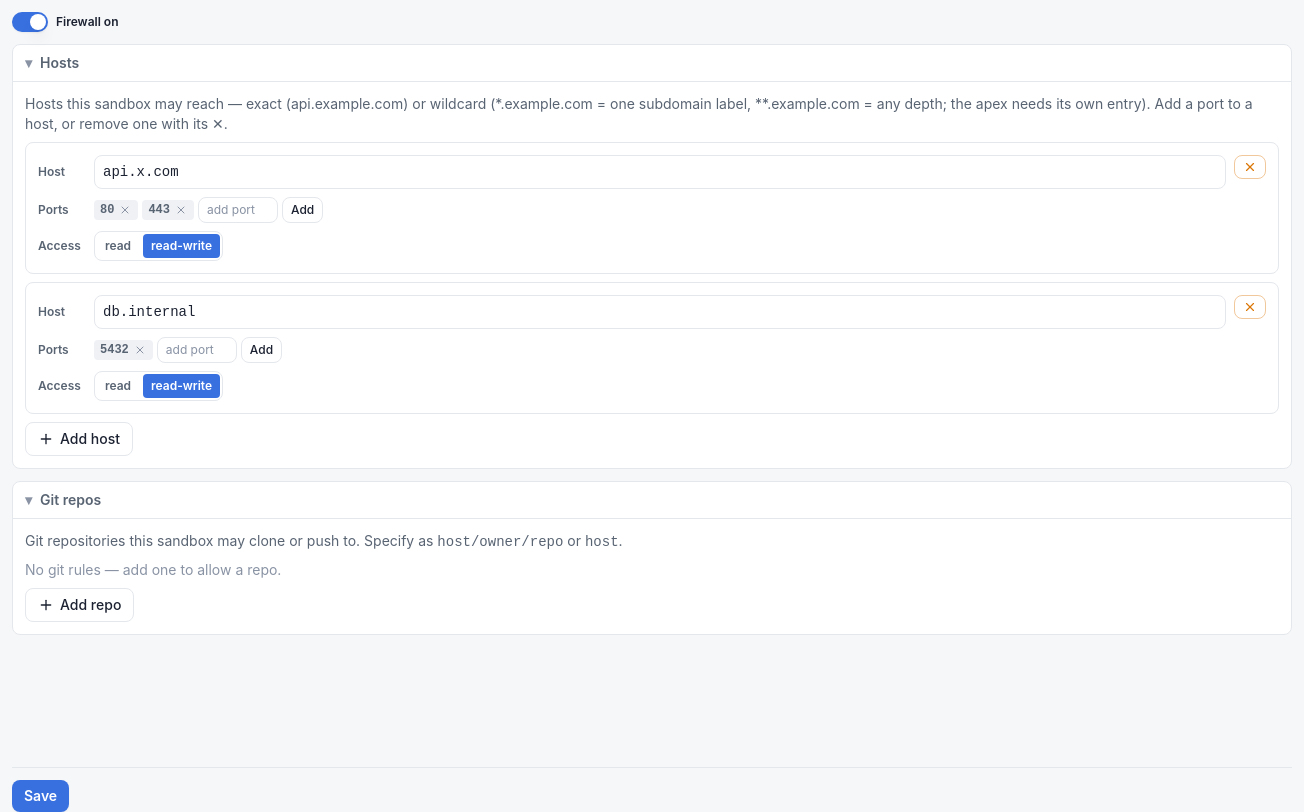
Test: PolicyEditor › rejects an out-of-range port
Expected: the 1st field showing "api.x.com" is shown, left=94, top=155, right=1226, bottom=189
Type "70000" into the field named "Add port to host rule 1 (api.x.com)".
click(238, 210); type("70000")  # box left=198, top=197, right=278, bottom=223
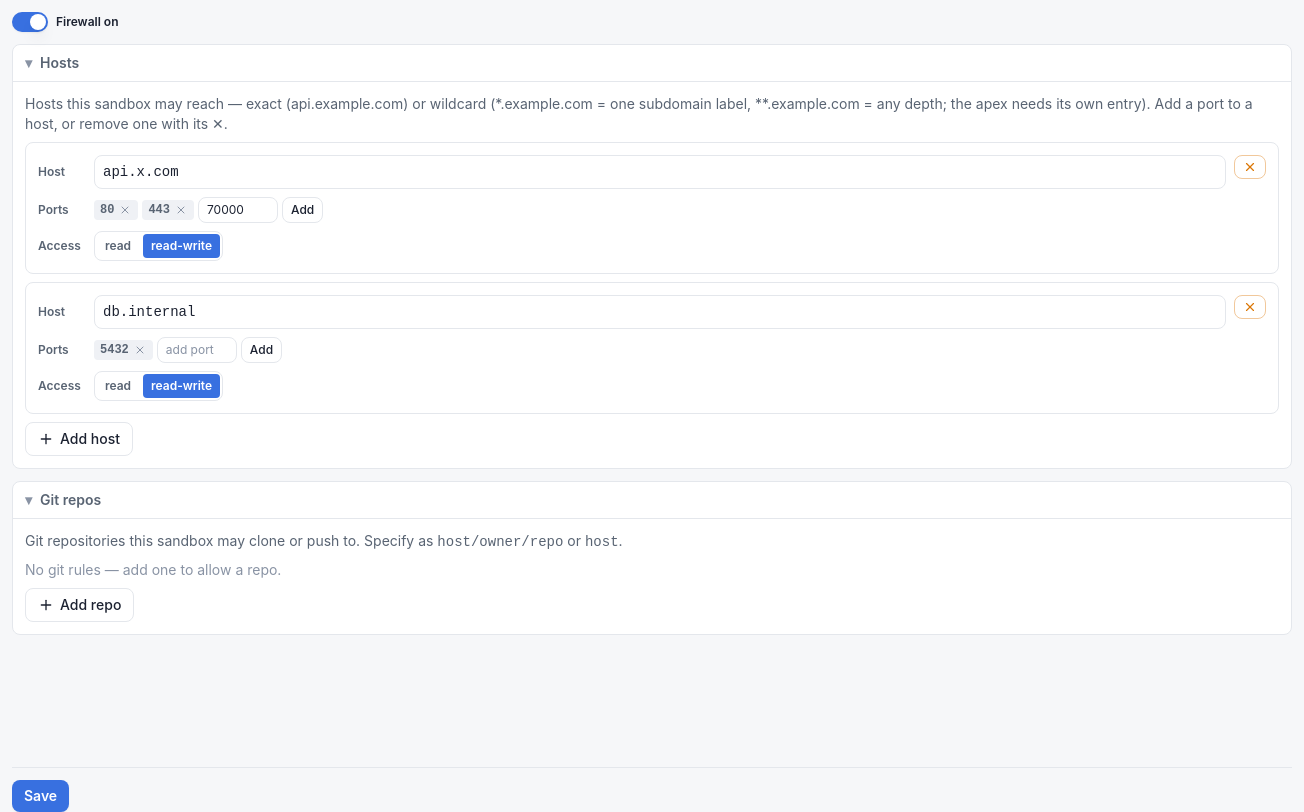
Click the button with aria-label "Add port to host rule 1 (api.x.com)".
click(303, 210)  # box left=282, top=197, right=323, bottom=223
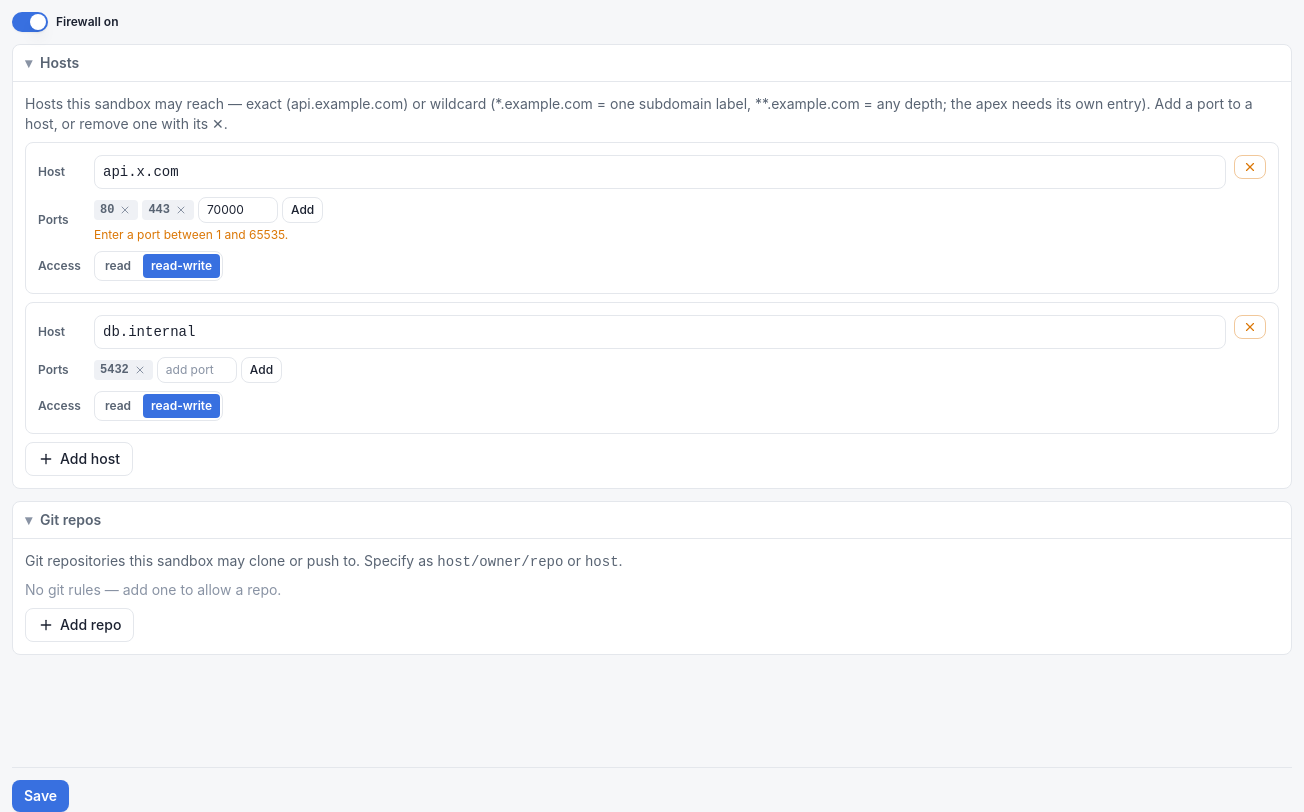
Now the text "Enter a port between 1 and 65535." is shown, box left=94, top=227, right=288, bottom=242
